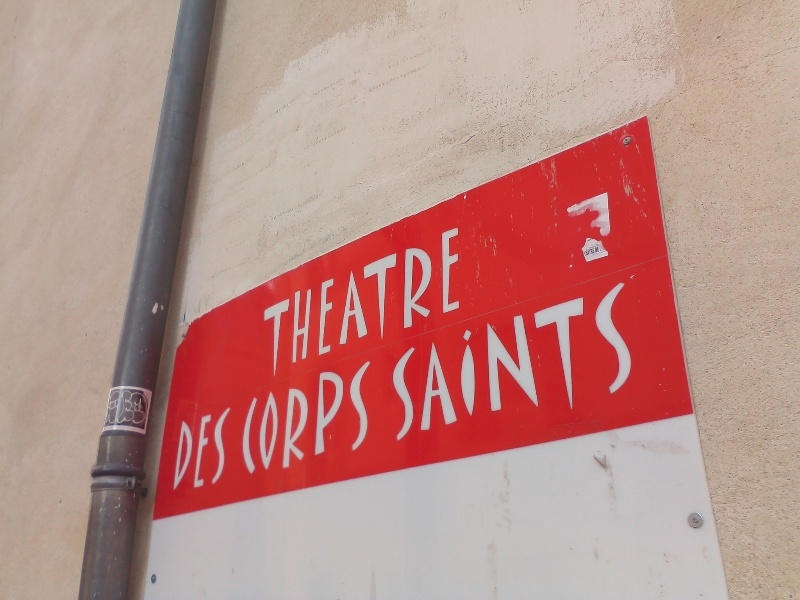text: (401, 268, 416, 447), (417, 268, 432, 447), (433, 268, 448, 447), (449, 268, 464, 447), (465, 268, 480, 447), (481, 268, 496, 447), (497, 268, 512, 447), (513, 268, 528, 447), (529, 268, 544, 447), (545, 268, 560, 447), (561, 268, 576, 447), (577, 268, 592, 447), (593, 268, 608, 447), (609, 268, 624, 447), (625, 268, 640, 447), (273, 219, 288, 384), (289, 219, 304, 384), (305, 219, 320, 384), (321, 219, 336, 384), (337, 219, 352, 384), (353, 219, 368, 384), (369, 219, 384, 384), (385, 219, 400, 384), (401, 219, 416, 384), (417, 219, 432, 384), (433, 219, 448, 384), (449, 219, 464, 384), (257, 359, 272, 479), (273, 359, 288, 479), (289, 359, 304, 479), (305, 359, 320, 479), (321, 359, 336, 479), (337, 359, 352, 479), (353, 359, 368, 479), (391, 268, 400, 447), (641, 268, 650, 447), (263, 219, 272, 384), (193, 406, 208, 494), (209, 406, 224, 494), (245, 359, 256, 479), (465, 219, 471, 384), (181, 406, 192, 494), (225, 406, 236, 494), (369, 359, 374, 479), (113, 390, 128, 427), (129, 390, 144, 427), (145, 390, 151, 427), (134, 396, 144, 415), (595, 245, 608, 253), (584, 247, 592, 258), (111, 390, 112, 427), (593, 247, 596, 258)
